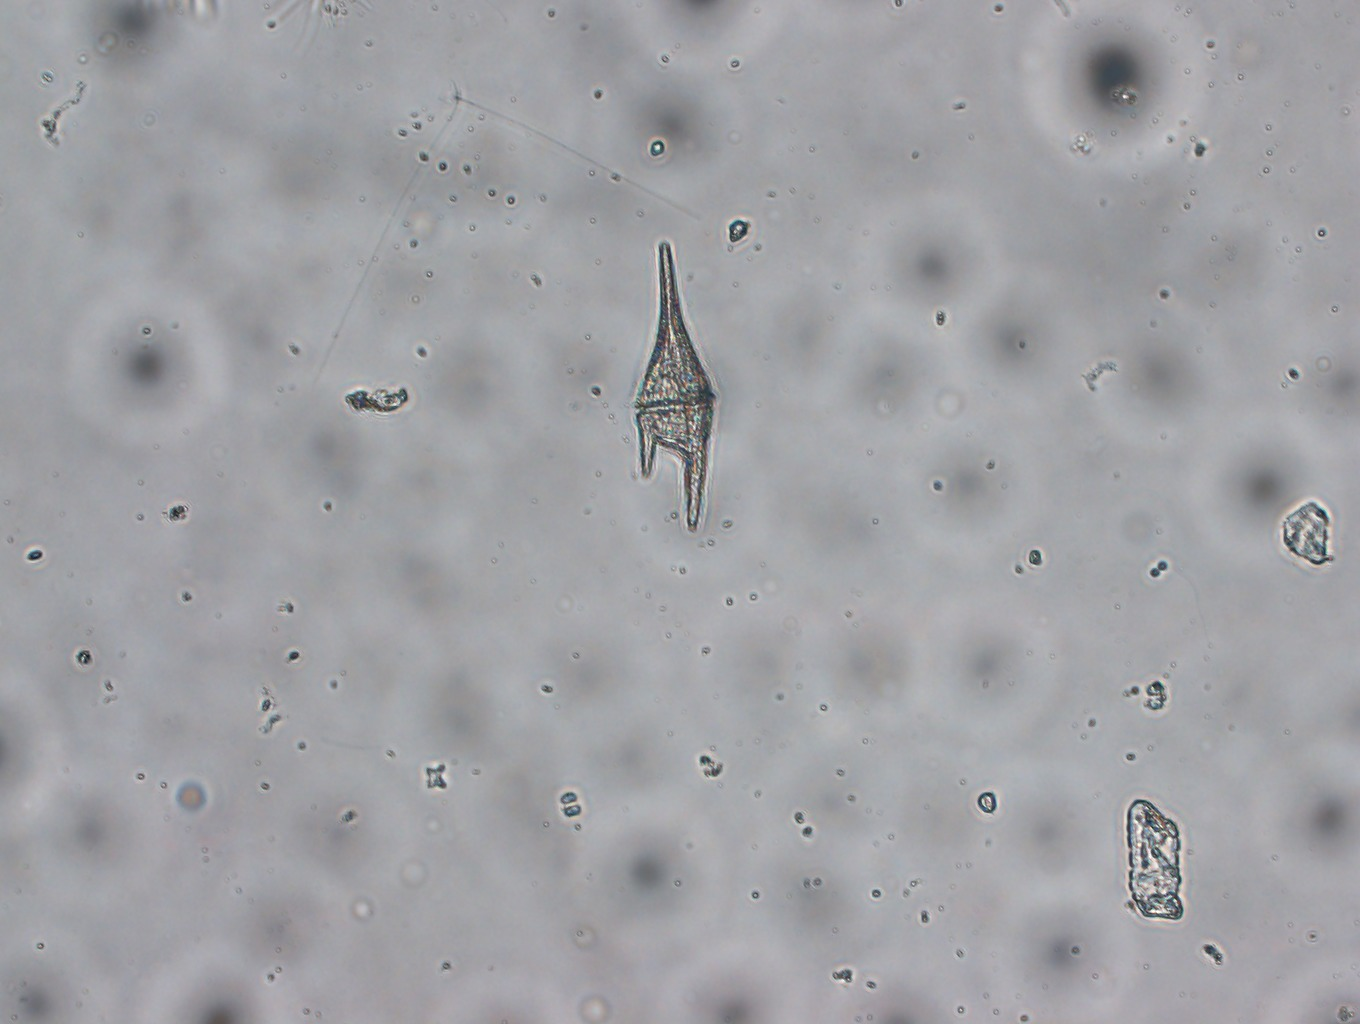ceratium furca: (628, 234, 725, 534)
